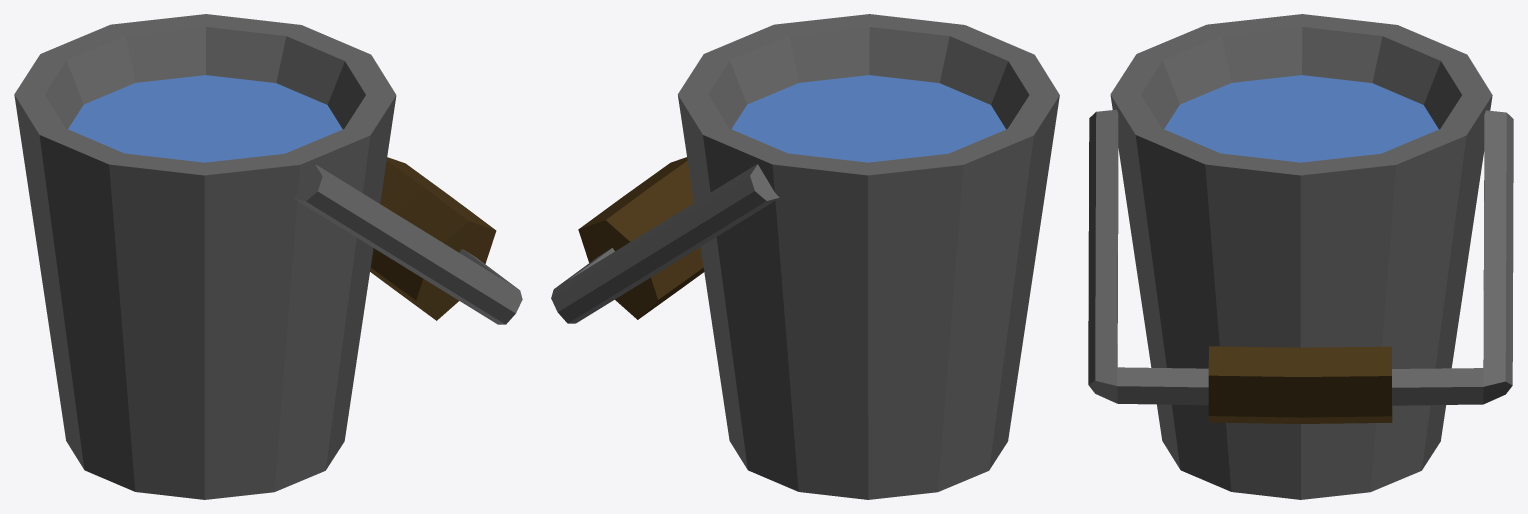
File: water_bucket.fbx
The picture shows the model from 3 angles, left to right: view 1: azimuth 30°, elevation 25°; view 2: azimuth 150°, elevation 25°; view 3: azimuth 270°, elevation 25°; orthographic projection.
Visible parts, largest first — view 1: water_bucket; view 2: water_bucket; view 3: water_bucket.
Part boxes in pixels (x1,y1,x2,y2): water_bucket: [14, 14, 522, 499]; water_bucket: [551, 14, 1059, 499]; water_bucket: [1088, 14, 1513, 499].
Bounding box in the file's own units: 70.98 × 57.08 × 63.55.
